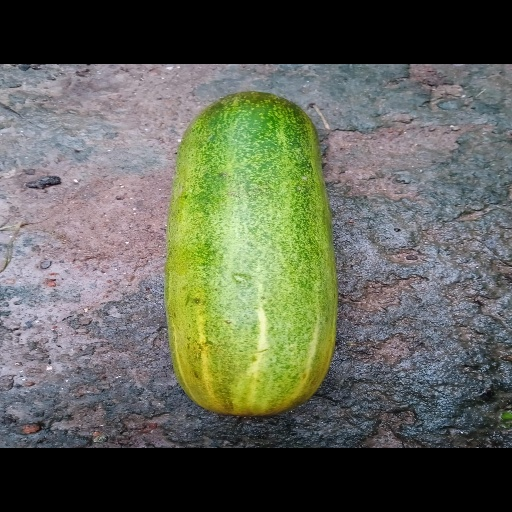concombre: (164, 90, 339, 419)
